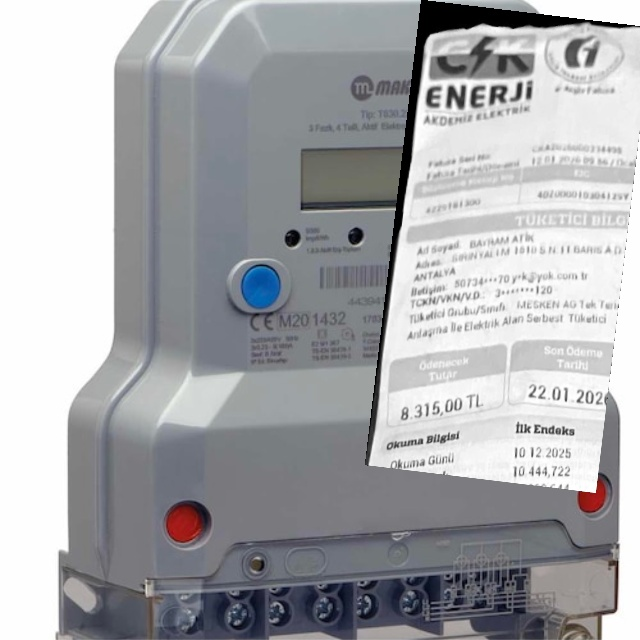electricity-bill: (364, 0, 640, 492)
